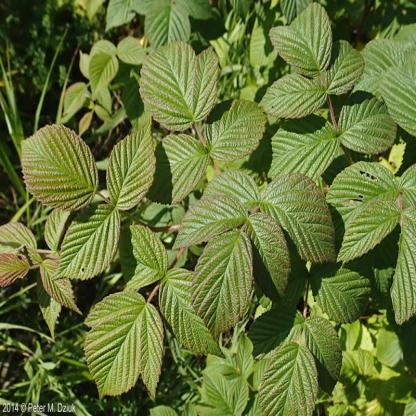raspberry leaf: (87, 289, 167, 400), (18, 118, 97, 213), (261, 174, 342, 264), (141, 40, 218, 134), (171, 173, 261, 252), (190, 228, 251, 336), (159, 266, 226, 361), (50, 203, 124, 284), (268, 3, 339, 76), (103, 114, 154, 214), (149, 127, 209, 211), (302, 313, 361, 395), (259, 340, 321, 415), (336, 87, 406, 150), (206, 98, 269, 165), (111, 218, 166, 291), (264, 75, 326, 122), (321, 31, 368, 92)
